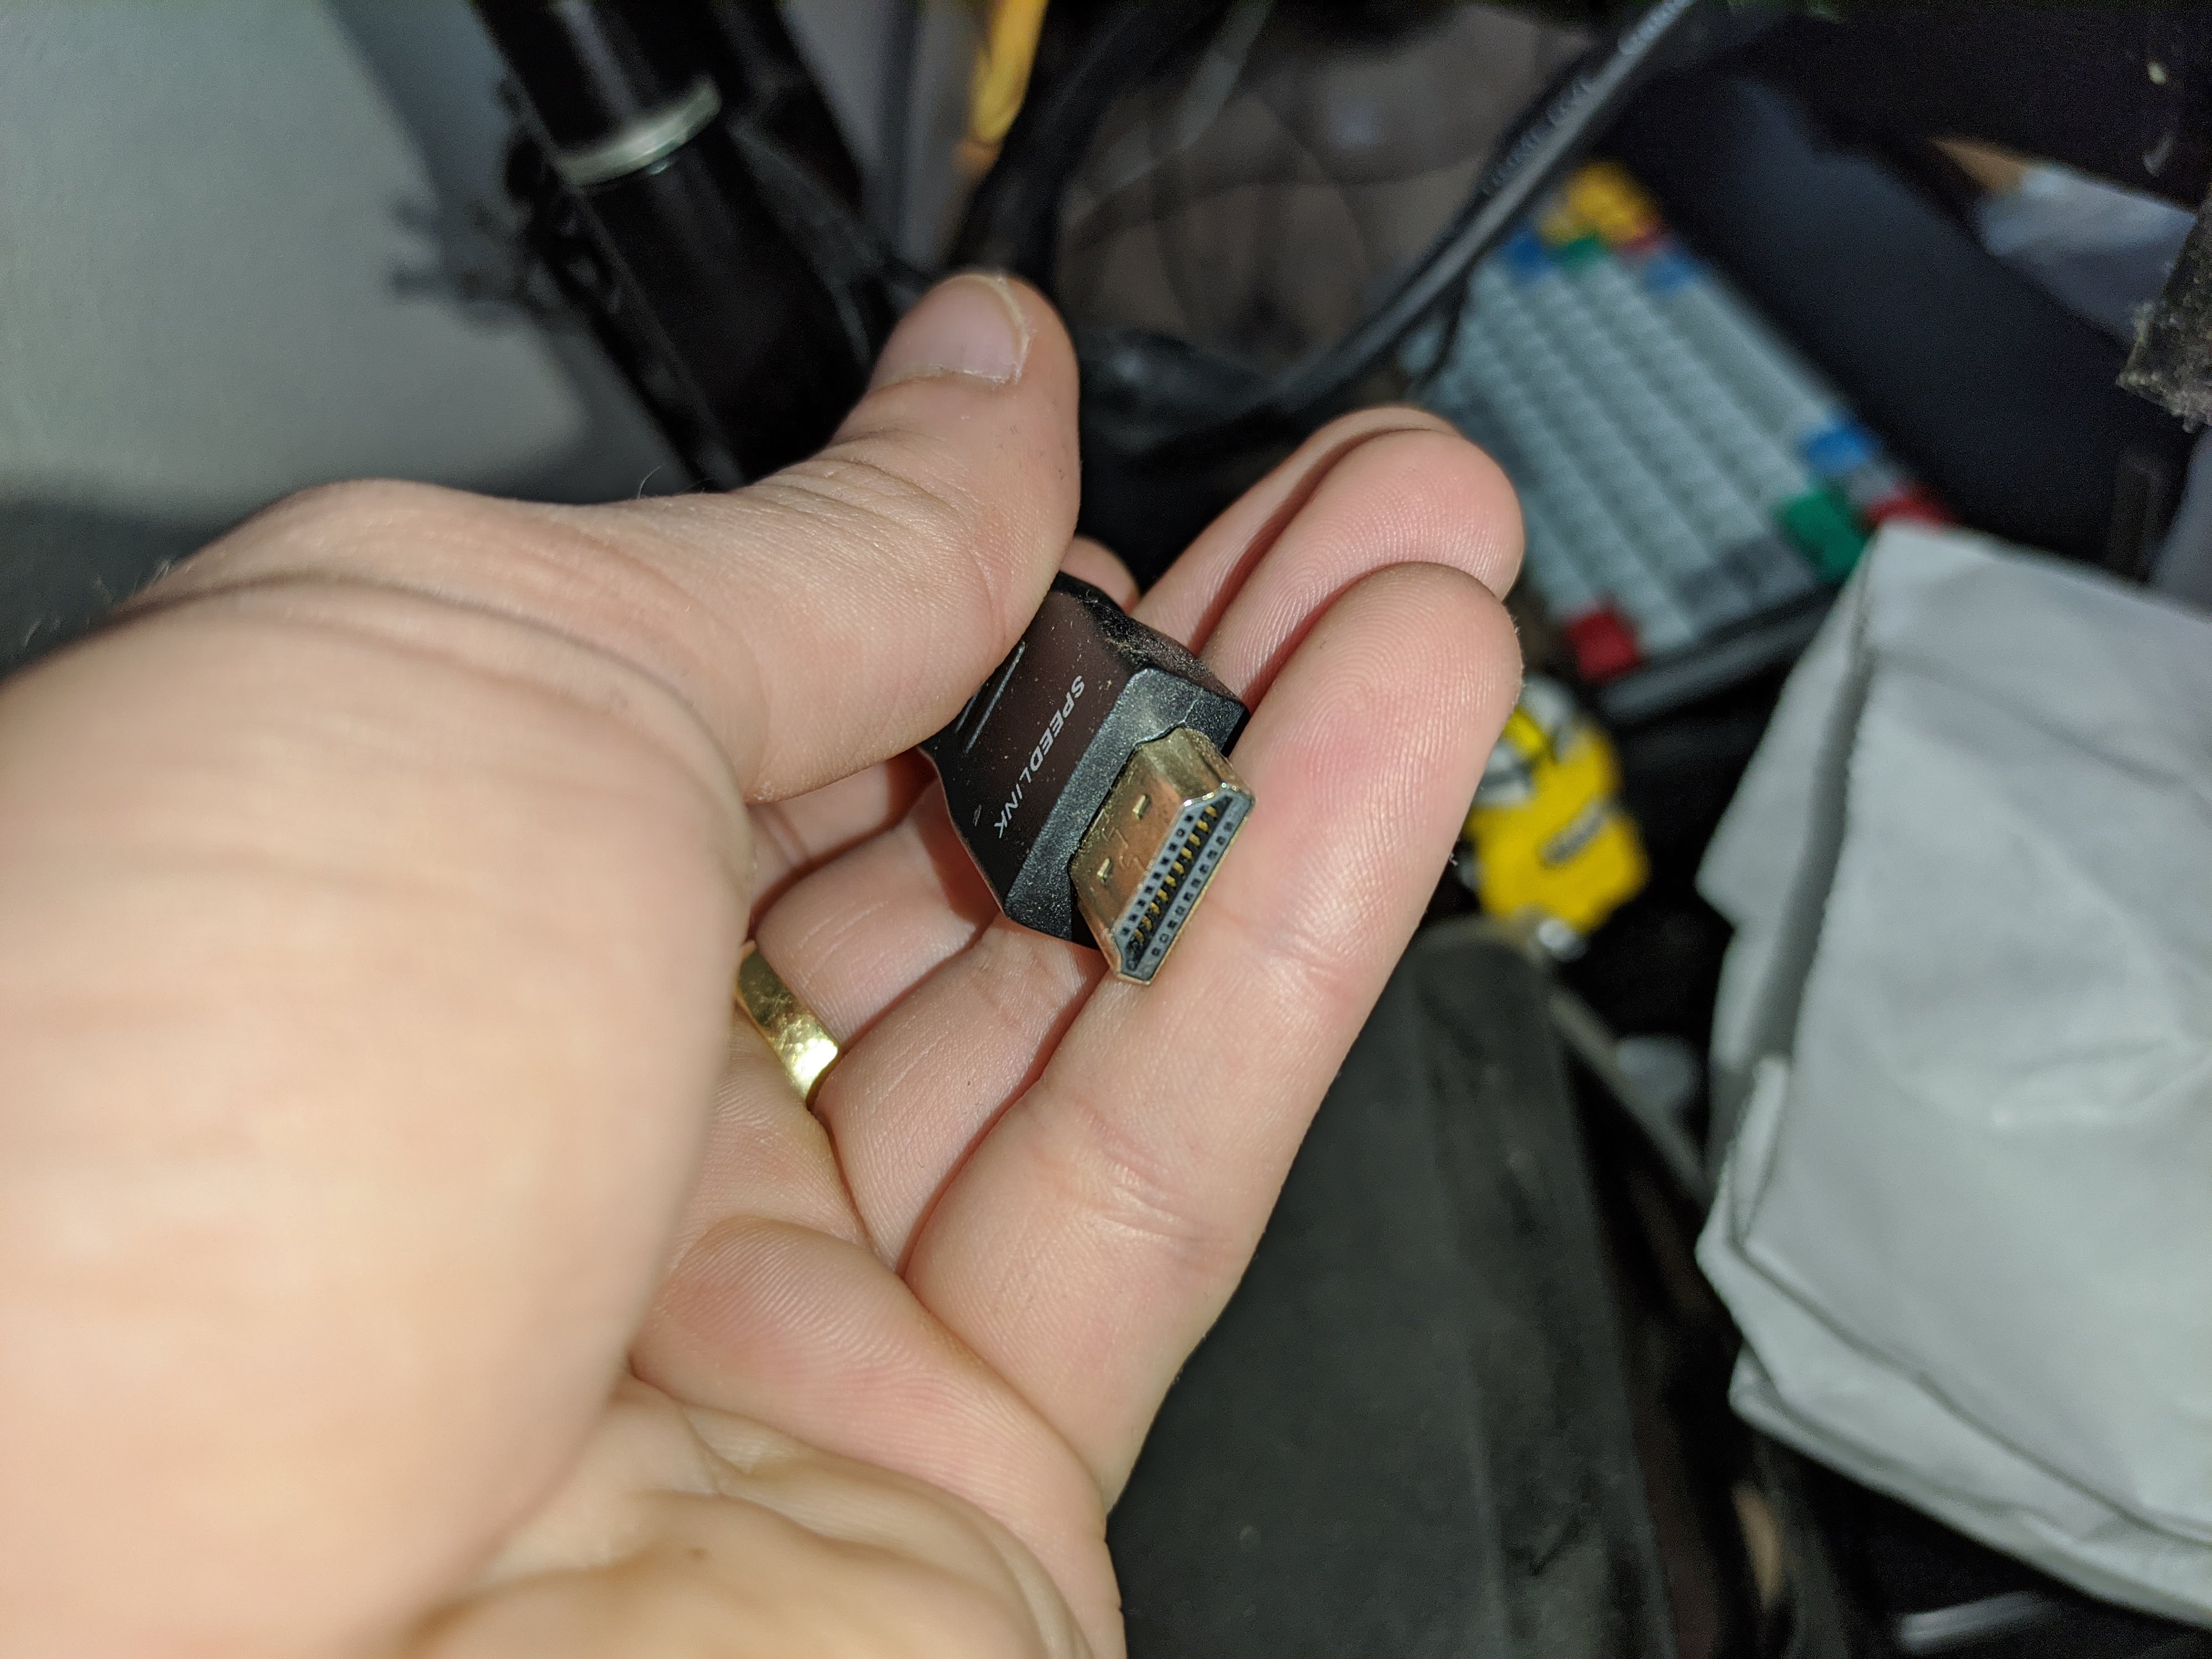hdmi_out: (1064, 723, 1252, 992)
